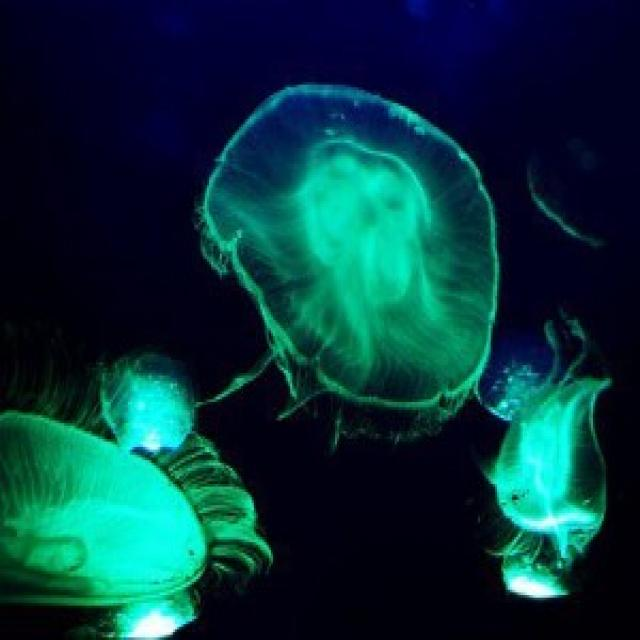Jellyfish: (195, 95, 502, 428), (0, 370, 211, 640)
